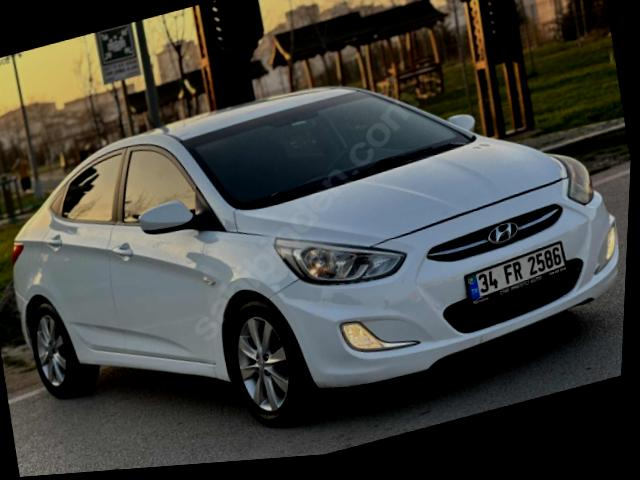plaka: (467, 241, 565, 303)
